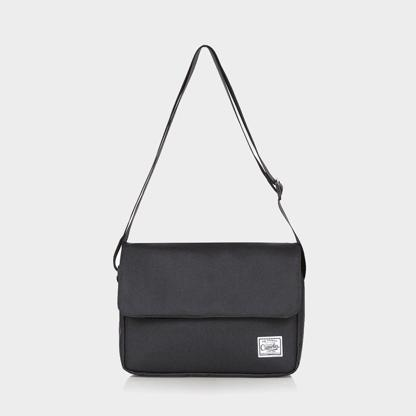not trash: (110, 45, 306, 379)
